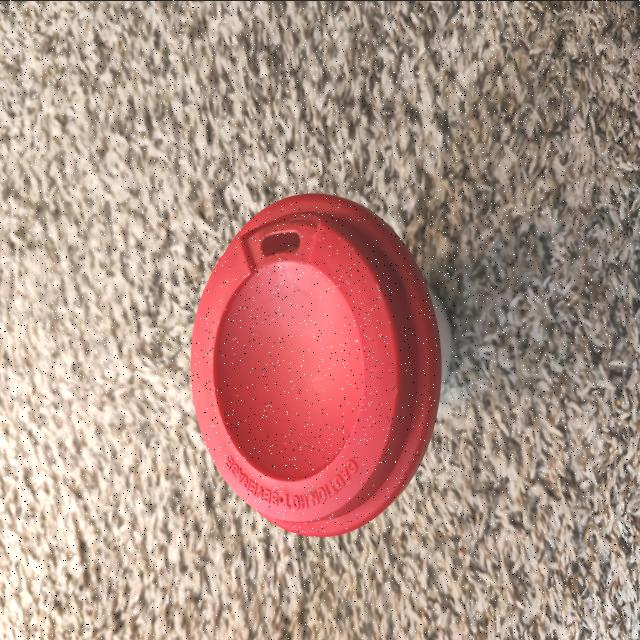mug: (196, 194, 456, 536)
